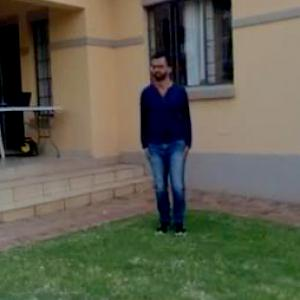follow: (133, 43, 195, 248)
